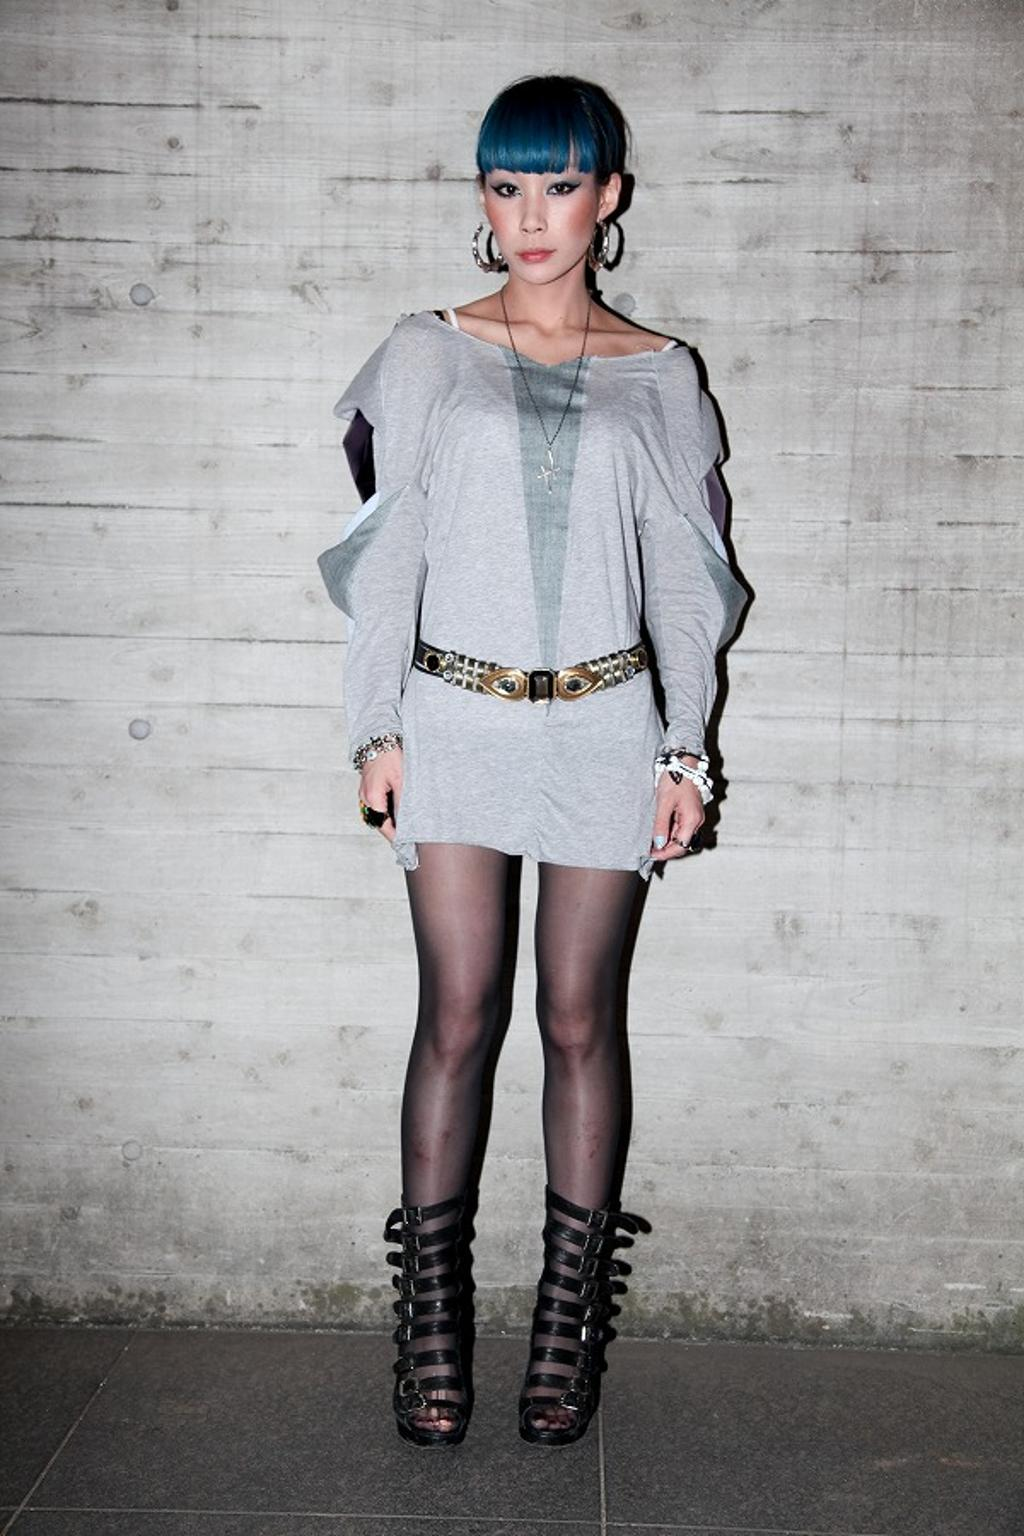face: (486, 144, 600, 288)
